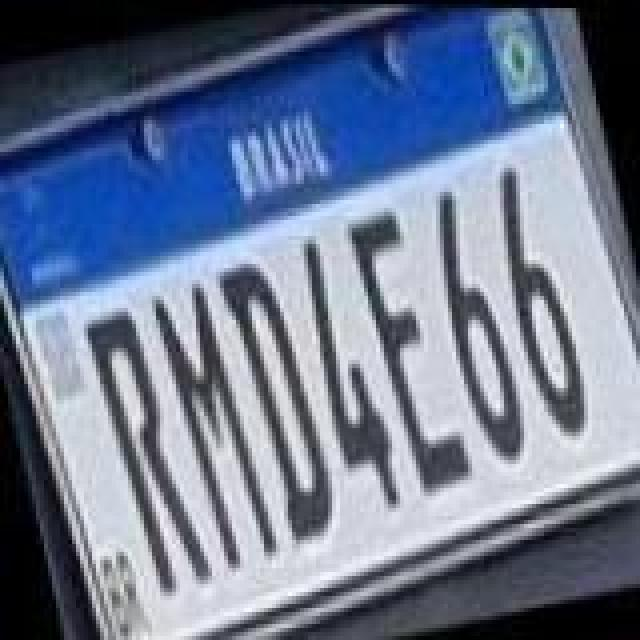4: (288, 226, 408, 518)
6: (418, 178, 534, 470), (482, 160, 598, 444)
D: (216, 250, 348, 550)
E: (342, 194, 474, 498)
M: (146, 268, 282, 572)
R: (78, 300, 214, 600)
